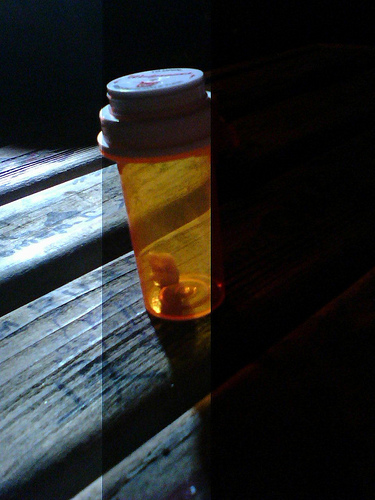pill bottle: (98, 66, 212, 320)
